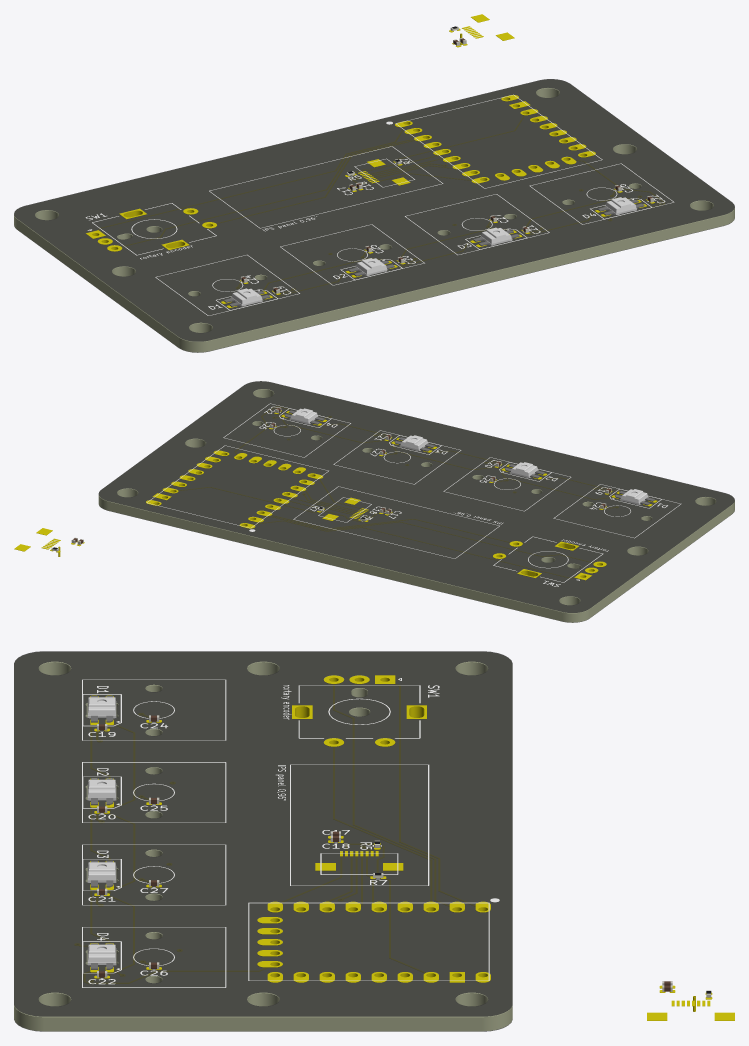
File: hayai.glb
3 renders of one model, top to bottom at view 1: azimuth 30°, elevation 25°; view 2: azimuth 150°, elevation 25°; view 3: azimuth 270°, elevation 25°, orthographic. The views are drawn at different scales.
Visible parts, largest first — view 1: =>[0:1:1:9], =>[0:1:1:11], =>[0:1:1:6], =>[0:1:1:7], =>[0:1:1:10]; view 2: =>[0:1:1:9], =>[0:1:1:11], =>[0:1:1:6], =>[0:1:1:7], =>[0:1:1:10]; view 3: =>[0:1:1:9], =>[0:1:1:11], =>[0:1:1:6], =>[0:1:1:7].
Part boxes in pixels (x1,y1,x2,y2): =>[0:1:1:9]: (14,79,734,341); =>[0:1:1:11]: (14,80,734,352); =>[0:1:1:6]: (86,14,664,307); =>[0:1:1:7]: (85,94,674,315); =>[0:1:1:10]: (14,218,734,352); =>[0:1:1:9]: (98,381,734,612); =>[0:1:1:11]: (98,382,734,622); =>[0:1:1:6]: (14,407,657,580); =>[0:1:1:7]: (146,403,681,586); =>[0:1:1:10]: (99,506,734,622); =>[0:1:1:9]: (14,651,512,1016); =>[0:1:1:11]: (14,652,512,1031); =>[0:1:1:6]: (75,675,734,1020); =>[0:1:1:7]: (82,678,499,987).
Bounding box in the file's own units: 0.0853 × 0.00382 × 0.0704.
